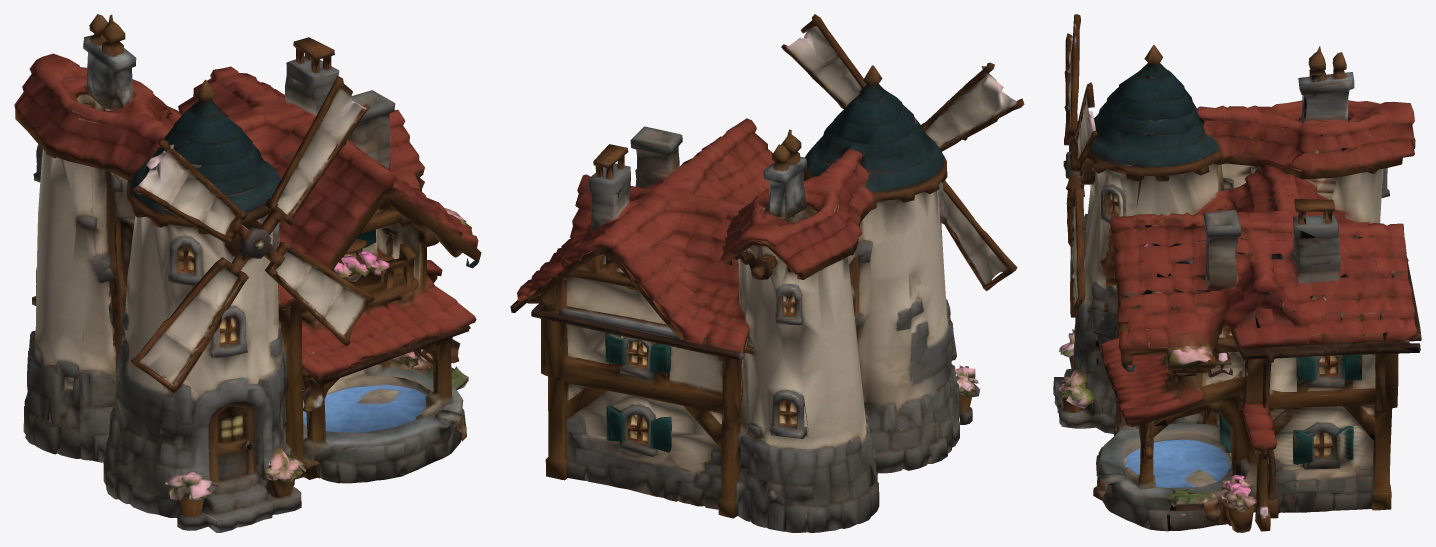
The picture shows the model from 3 angles, left to right: view 1: azimuth 30°, elevation 25°; view 2: azimuth 150°, elevation 25°; view 3: azimuth 270°, elevation 25°; orthographic projection. The views are drawn at different scales.
Visible parts, largest first — view 1: alpine__windmill__neural_lod, alpine__windmill__neural_rotor; view 2: alpine__windmill__neural_lod, alpine__windmill__neural_rotor; view 3: alpine__windmill__neural_lod, alpine__windmill__neural_rotor.
Boxes of the visible parts, x1=… form: alpine__windmill__neural_lod: x1=14, y1=14, x2=481, y2=532; alpine__windmill__neural_rotor: x1=131, y1=75, x2=374, y2=393; alpine__windmill__neural_lod: x1=510, y1=65, x2=980, y2=532; alpine__windmill__neural_rotor: x1=781, y1=14, x2=1024, y2=291; alpine__windmill__neural_lod: x1=1053, y1=45, x2=1421, y2=532; alpine__windmill__neural_rotor: x1=1063, y1=14, x2=1097, y2=317.
Bounding box in the file's own units: 1 × 0.9771 × 0.8604.
Materials: 1 (1 with a texture image).
